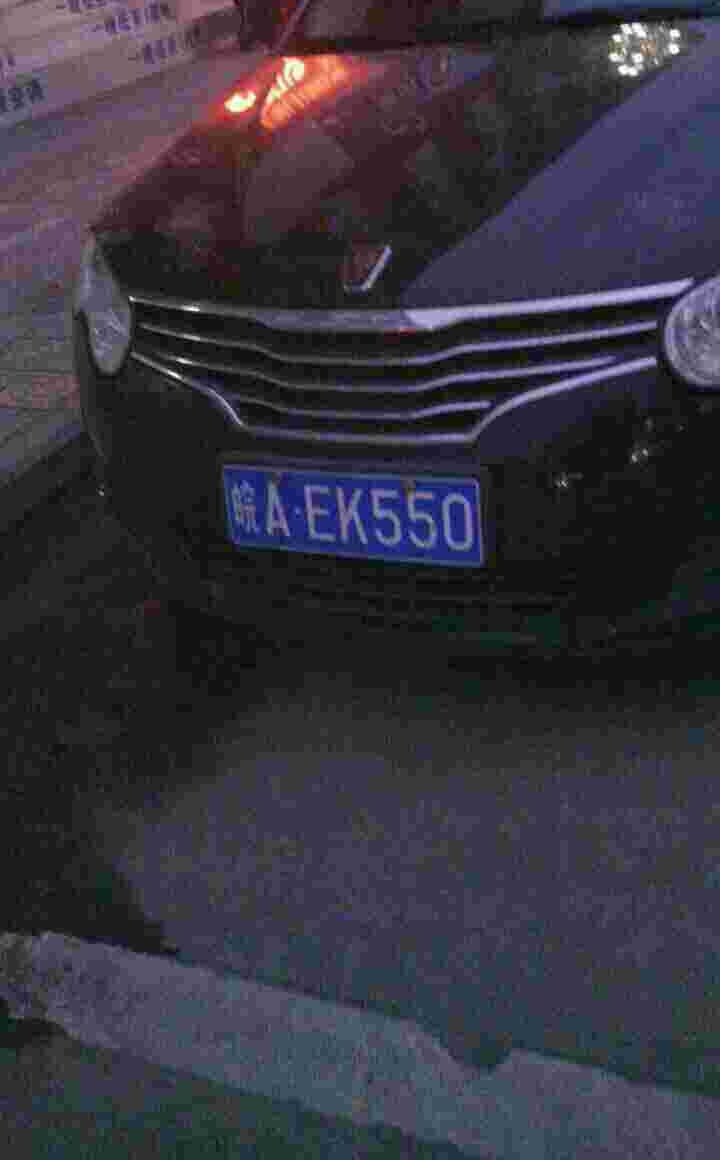license_plate: (212, 465, 476, 572)
